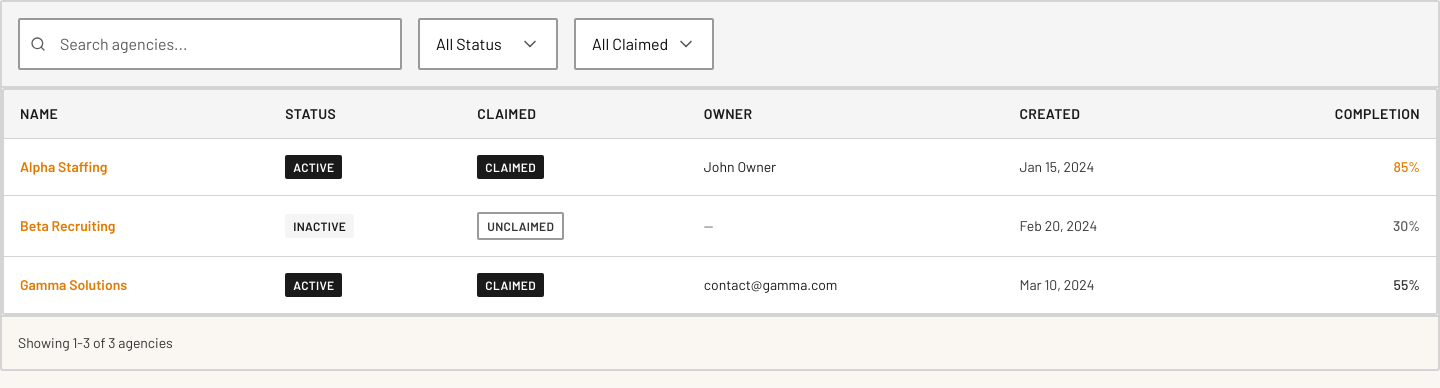
AdminAgenciesTable › Search Filtering › shows correct count when filtering by search
Expected: the text with test id "agencies-count" reads "Showing 1-3 of 3 agencies", [18,334,173,350]
Step 1. Type "Beta" into the field with test id "agency-search-input" → [210, 44], box [18,18,402,70]
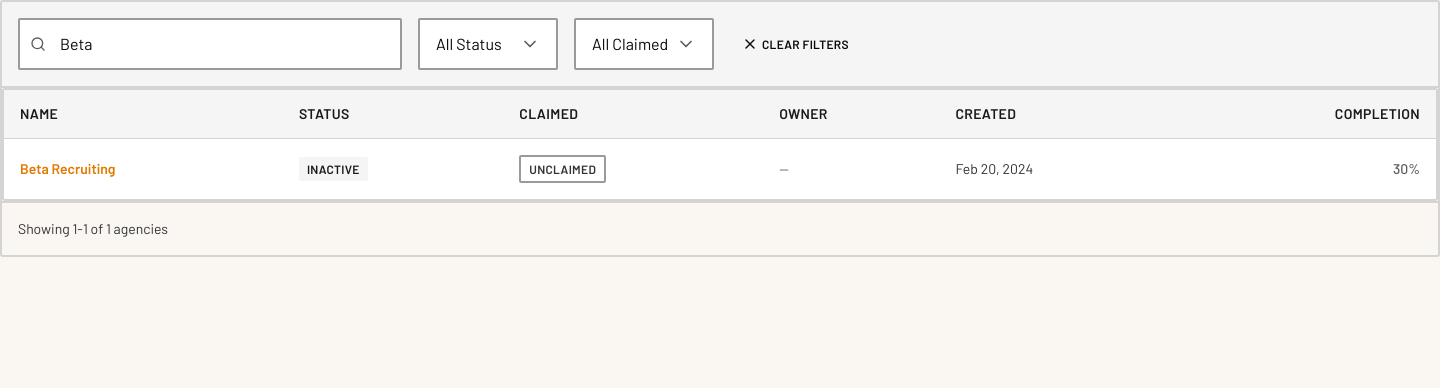
Expected: the text with test id "agencies-count" reads "Showing 1-1 of 1 agencies", [18,220,168,236]
